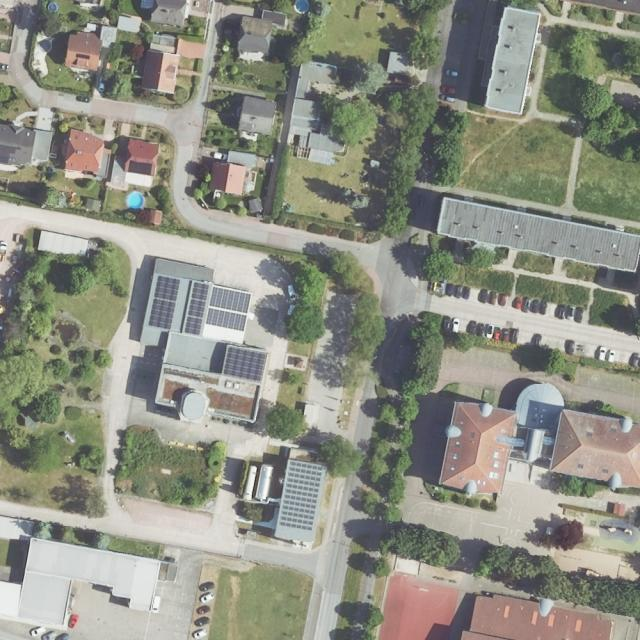PV: (183, 282, 251, 336), (277, 460, 324, 533), (146, 274, 178, 330), (221, 347, 267, 383), (127, 160, 151, 187), (0, 144, 16, 164)
